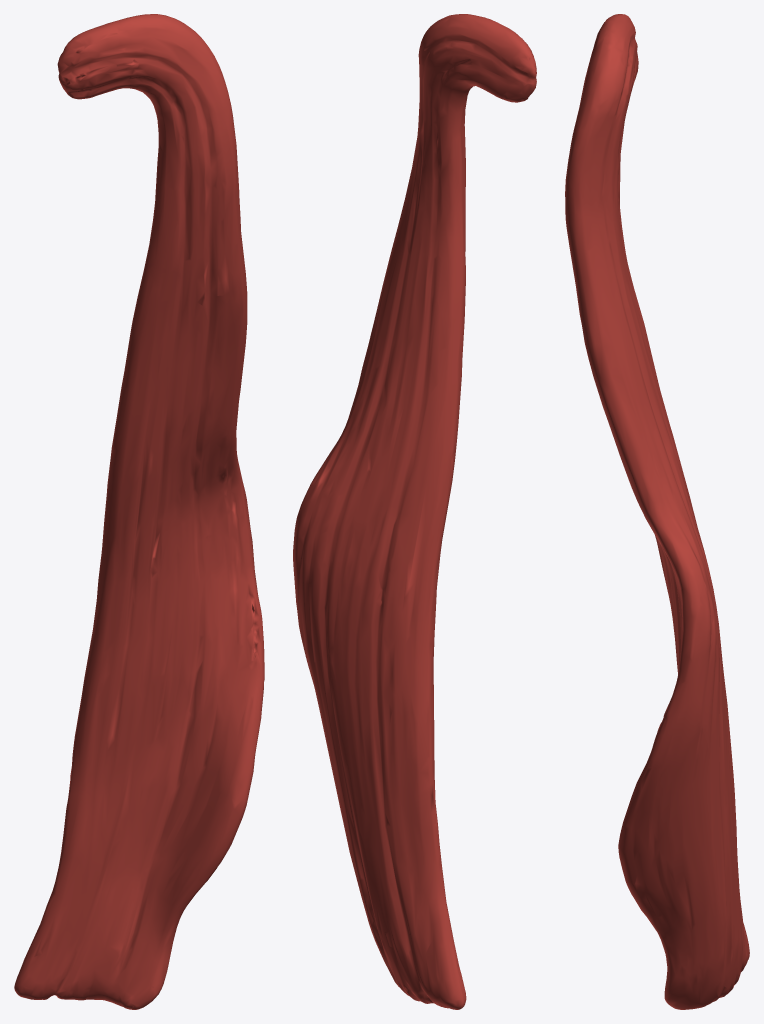
The model's file is musculos-palatopharyngeus-muscle-l.glb.
3 renders of one model, left to right at view 1: azimuth 30°, elevation 25°; view 2: azimuth 150°, elevation 25°; view 3: azimuth 270°, elevation 25°, orthographic. The views are drawn at different scales.
Visible parts, largest first — view 1: Palatopharyngeus muscle.l; view 2: Palatopharyngeus muscle.l; view 3: Palatopharyngeus muscle.l.
Boxes of the visible parts, x1=… form: Palatopharyngeus muscle.l: x1=14, y1=14, x2=264, y2=1009; Palatopharyngeus muscle.l: x1=293, y1=14, x2=536, y2=1009; Palatopharyngeus muscle.l: x1=565, y1=14, x2=749, y2=1009.
Bounding box in the file's own units: 0.0205 × 0.088 × 0.0153.
